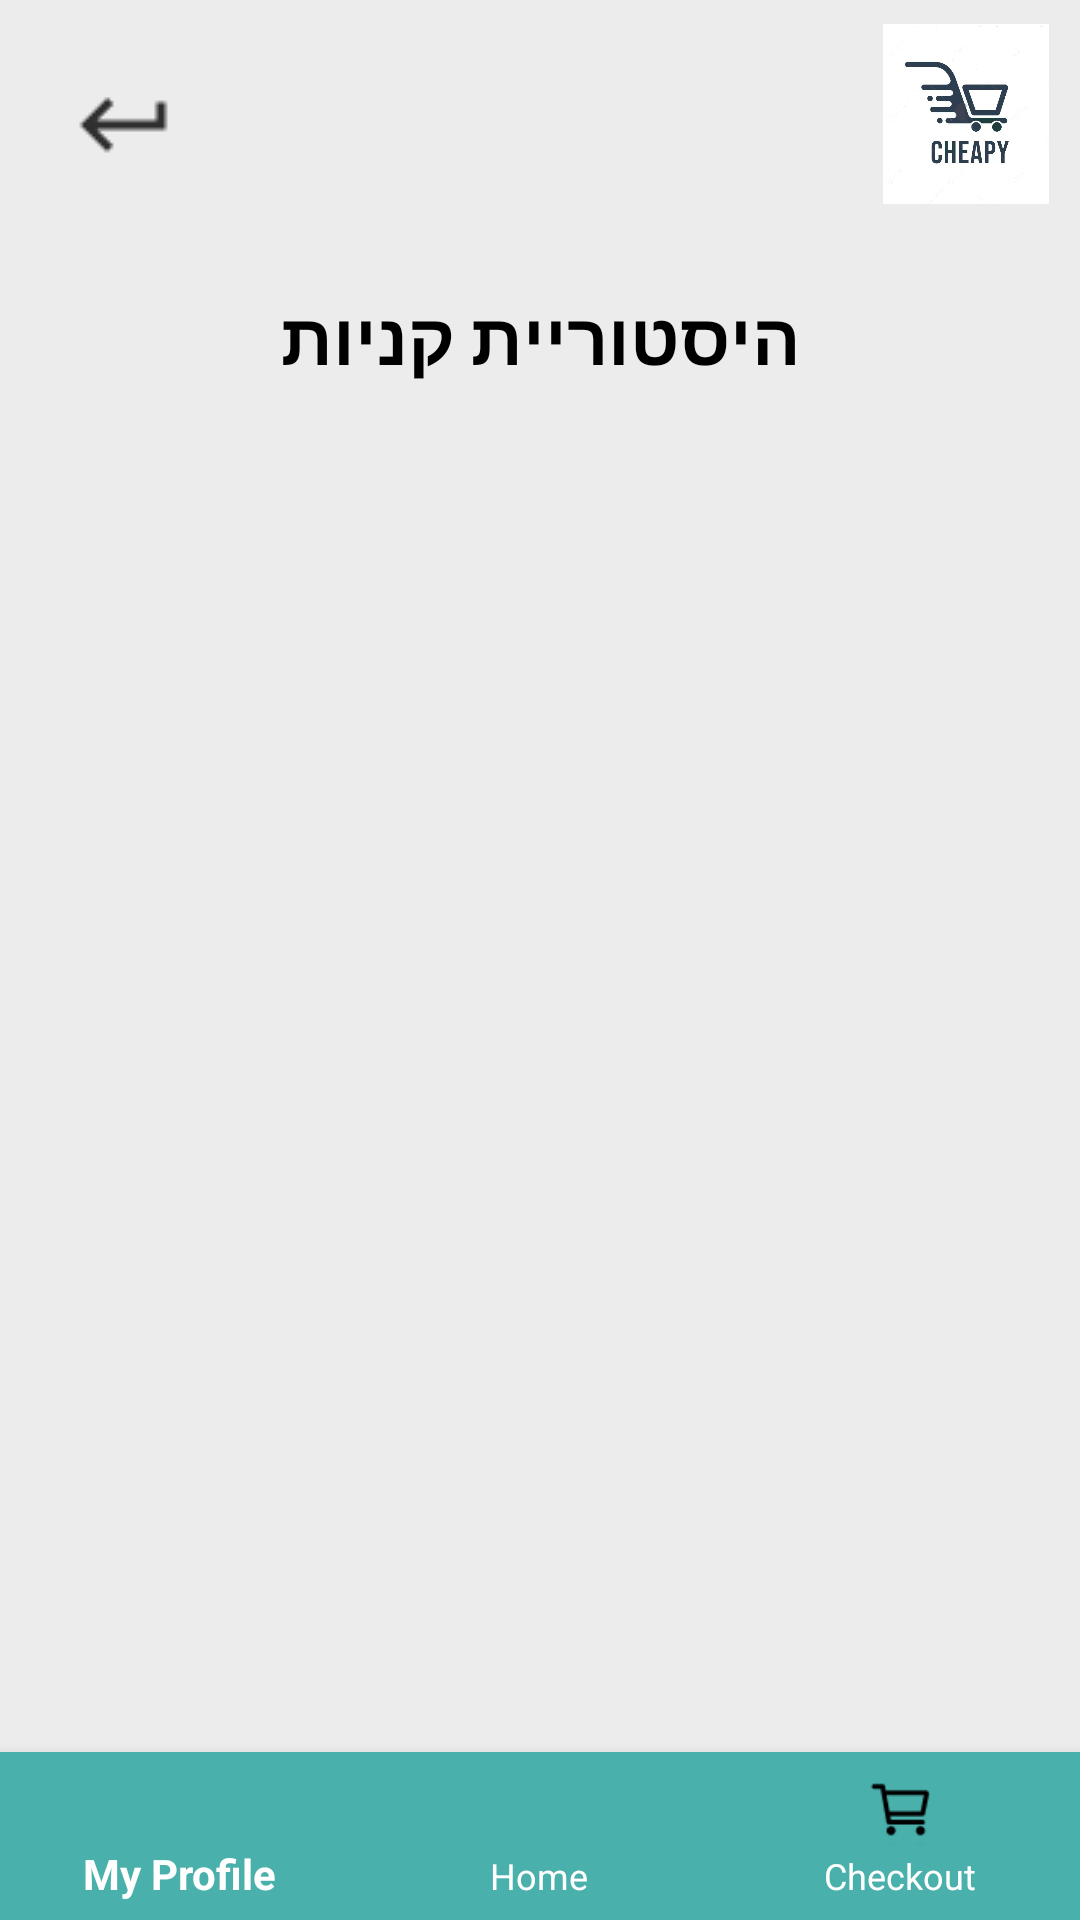

Where to tap for icons on this 1080w x 1920h app screen, as (x=x, y=y):
return: (x=124, y=124)
